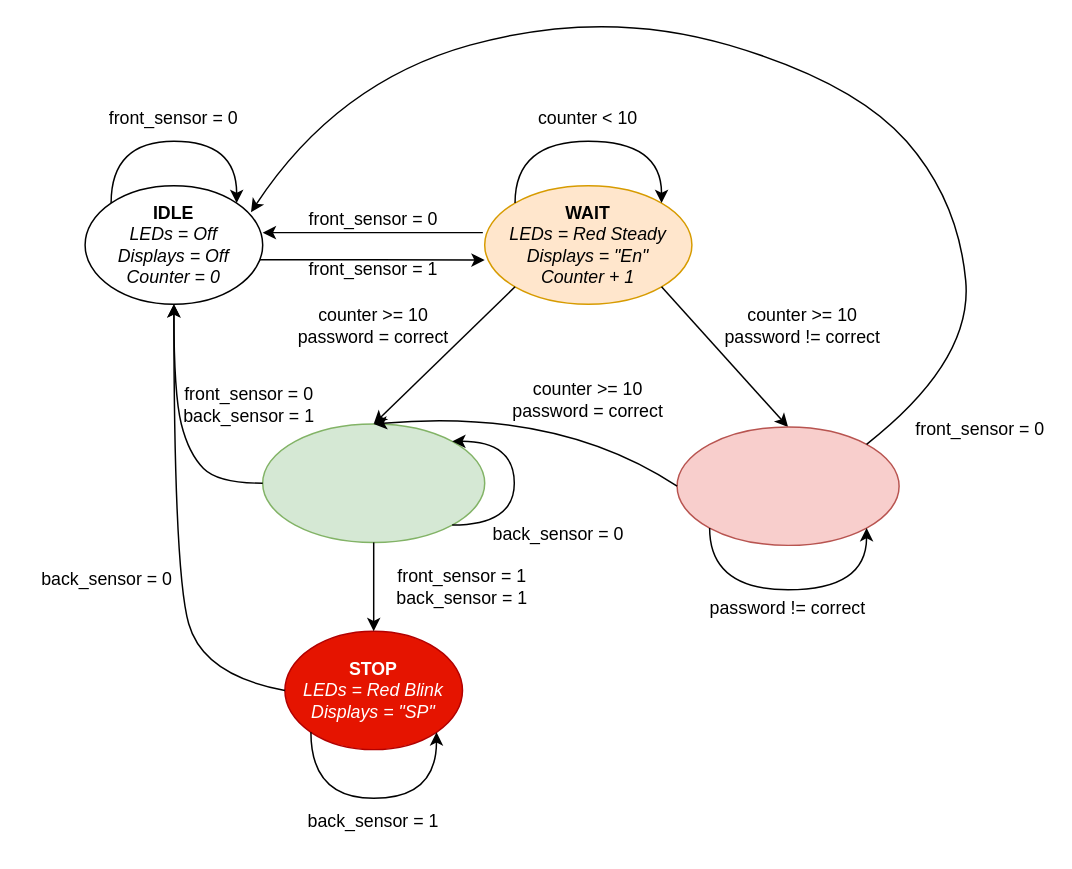
This 1072x869 diagram has some shape labels left out. Here are the shapes that lost their labels. From the top down, the box of each, then its label:
(261, 423, 485, 542): RIGHT_PASS LEDs = Green Blink Displays = "GO"
(676, 426, 899, 545): WRONG_PASS LEDs = Red Blink Displays = "EE" Counter + 1
